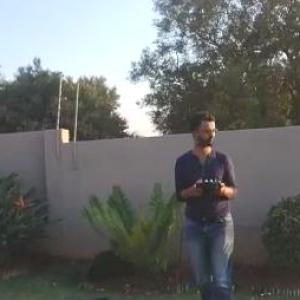follow: (170, 103, 247, 299)
